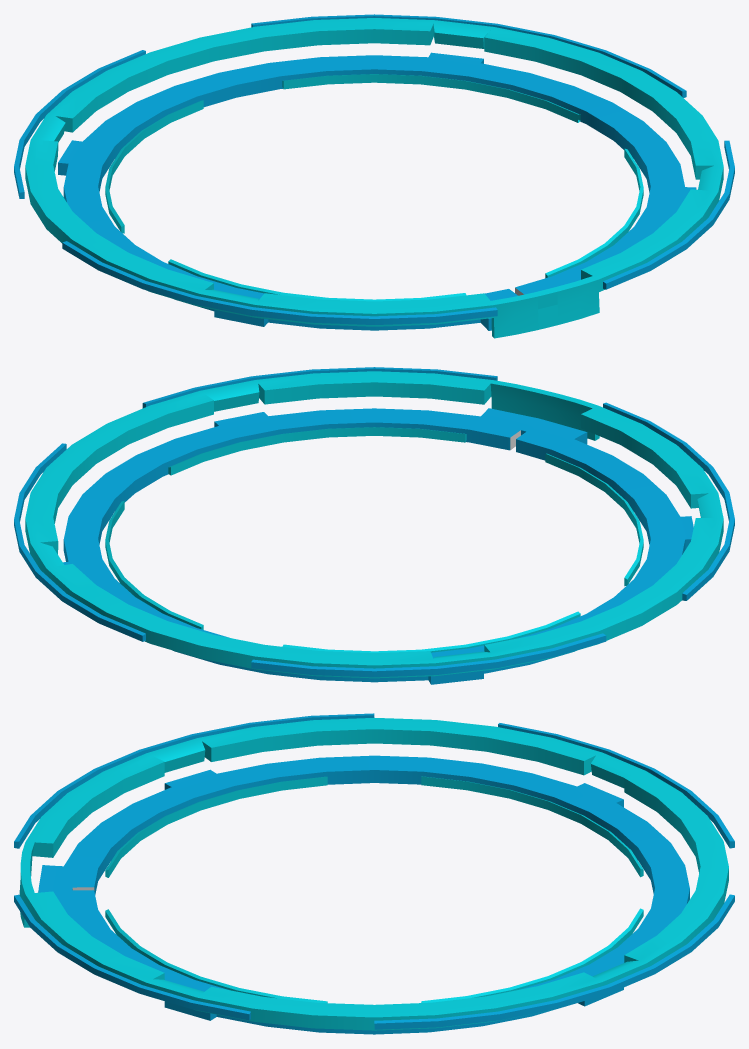
The model's file is wrist menu_UI.fbx.
3 renders of one model, top to bottom at view 1: azimuth 30°, elevation 25°; view 2: azimuth 150°, elevation 25°; view 3: azimuth 270°, elevation 25°, orthographic.
Visible parts, largest first — view 1: menu_outline1, menu_inside1; view 2: menu_outline1, menu_inside1; view 3: menu_outline1, menu_inside1.
Part boxes in pixels (x1=…): menu_outline1: x1=14, y1=14, x2=734, y2=338; menu_inside1: x1=58, y1=52, x2=696, y2=330; menu_outline1: x1=14, y1=367, x2=734, y2=678; menu_inside1: x1=63, y1=408, x2=693, y2=684; menu_outline1: x1=14, y1=713, x2=734, y2=1030; menu_inside1: x1=38, y1=755, x2=689, y2=1034.
Size of the model in its own units: 3.71 by 0.1982 by 3.65.
